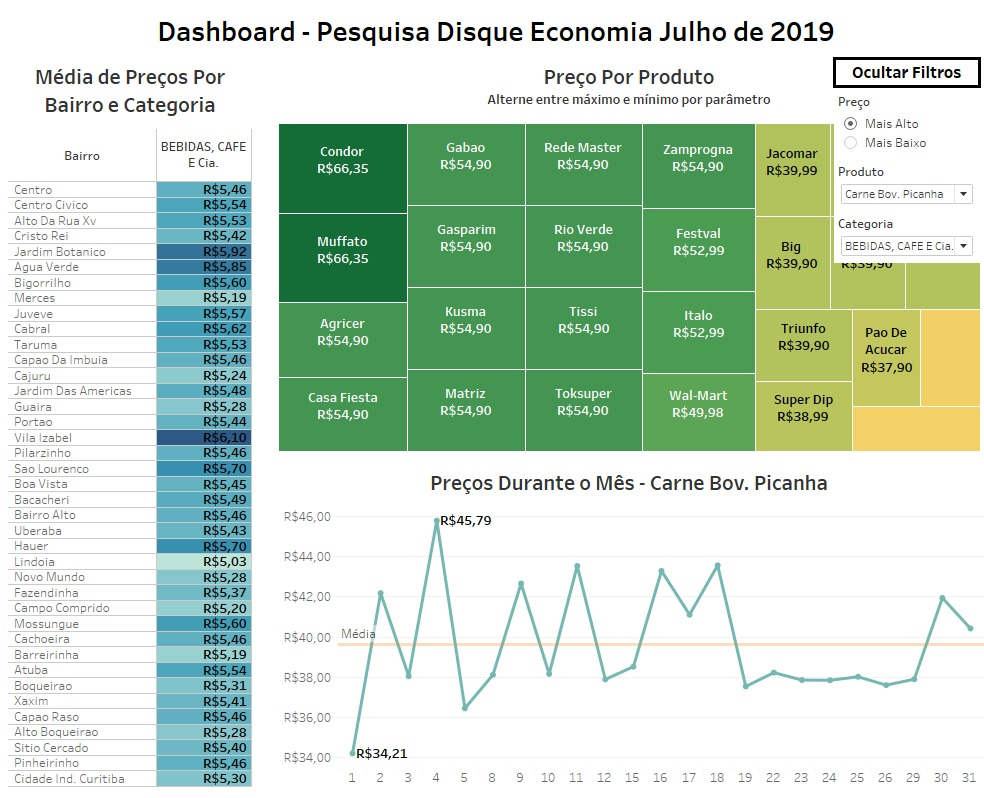

The page's visual inventory and layout, read from the dashboard file:
{"tool":"tableau","page":{"name":"Painel 2","canvas":[1000,800],"ordinal":1},"visuals":[{"type":"text","box":[8,8,984,47]},{"type":"worksheet","title":"Média de Preços Por Bairro e Categoria","mark":"Square","rows":["cd_bairro","ds_bairro"],"cols":["ds_categoria"],"box":[8,55,266,737]},{"type":"worksheet","title":"Planilha 10","mark":"Automatic","box":[274,55,718,406]},{"type":"dashboard-object","box":[837,58,148,31]},{"type":"parameter","param":"[Parameters].[Parâmetro 1]","box":[838,90,146,70]},{"type":"filter","title":"Planilha 10","param":"[federated.1x7321l0k0bvtz11mo9ry00vpsfd].[none:ds_produto:nk]","box":[838,160,146,52]},{"type":"filter","title":"Média de Preços Por Bairro e Categoria","param":"[federated.1x7321l0k0bvtz11mo9ry00vpsfd].[none:ds_categoria:nk]","box":[838,212,146,52]},{"type":"worksheet","title":"Preço dos Produtos Por Dia","mark":"Automatic","rows":["ds_produto","vl_preco_pesquisado"],"cols":["dt_referencia"],"box":[274,461,718,331]}]}

Visuals, with their boxes in screenshot pixels (x1, y1, x2, y2), scaled from the page's 1000x800 canvas onto the 984x798 screenshot:
text: BBox(8, 8, 976, 55)
"Média de Preços Por Bairro e Categoria" worksheet (Square marks): BBox(8, 55, 270, 790)
"Planilha 10" worksheet: BBox(270, 55, 976, 460)
dashboard-object: BBox(824, 58, 969, 89)
parameter: BBox(825, 90, 968, 160)
"Planilha 10" filter: BBox(825, 160, 968, 211)
"Média de Preços Por Bairro e Categoria" filter: BBox(825, 211, 968, 263)
"Preço dos Produtos Por Dia" worksheet: BBox(270, 460, 976, 790)
